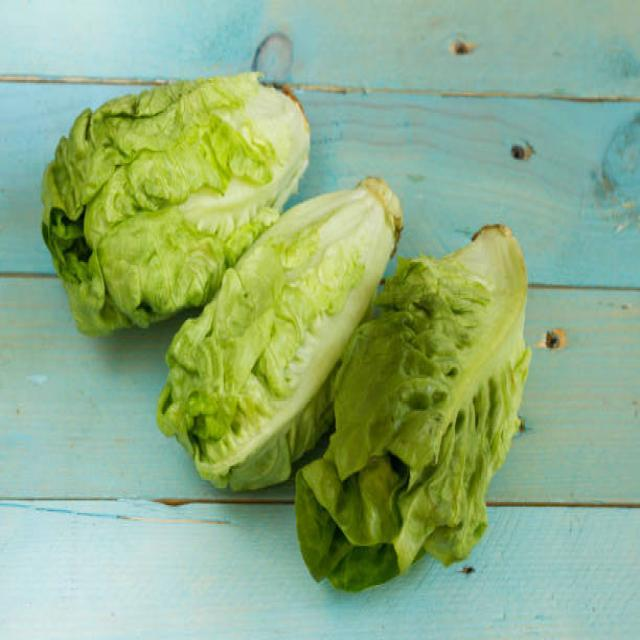Lettuce-Ready-to-Harvest: (296, 225, 530, 591), (158, 179, 402, 489), (42, 72, 309, 334)
